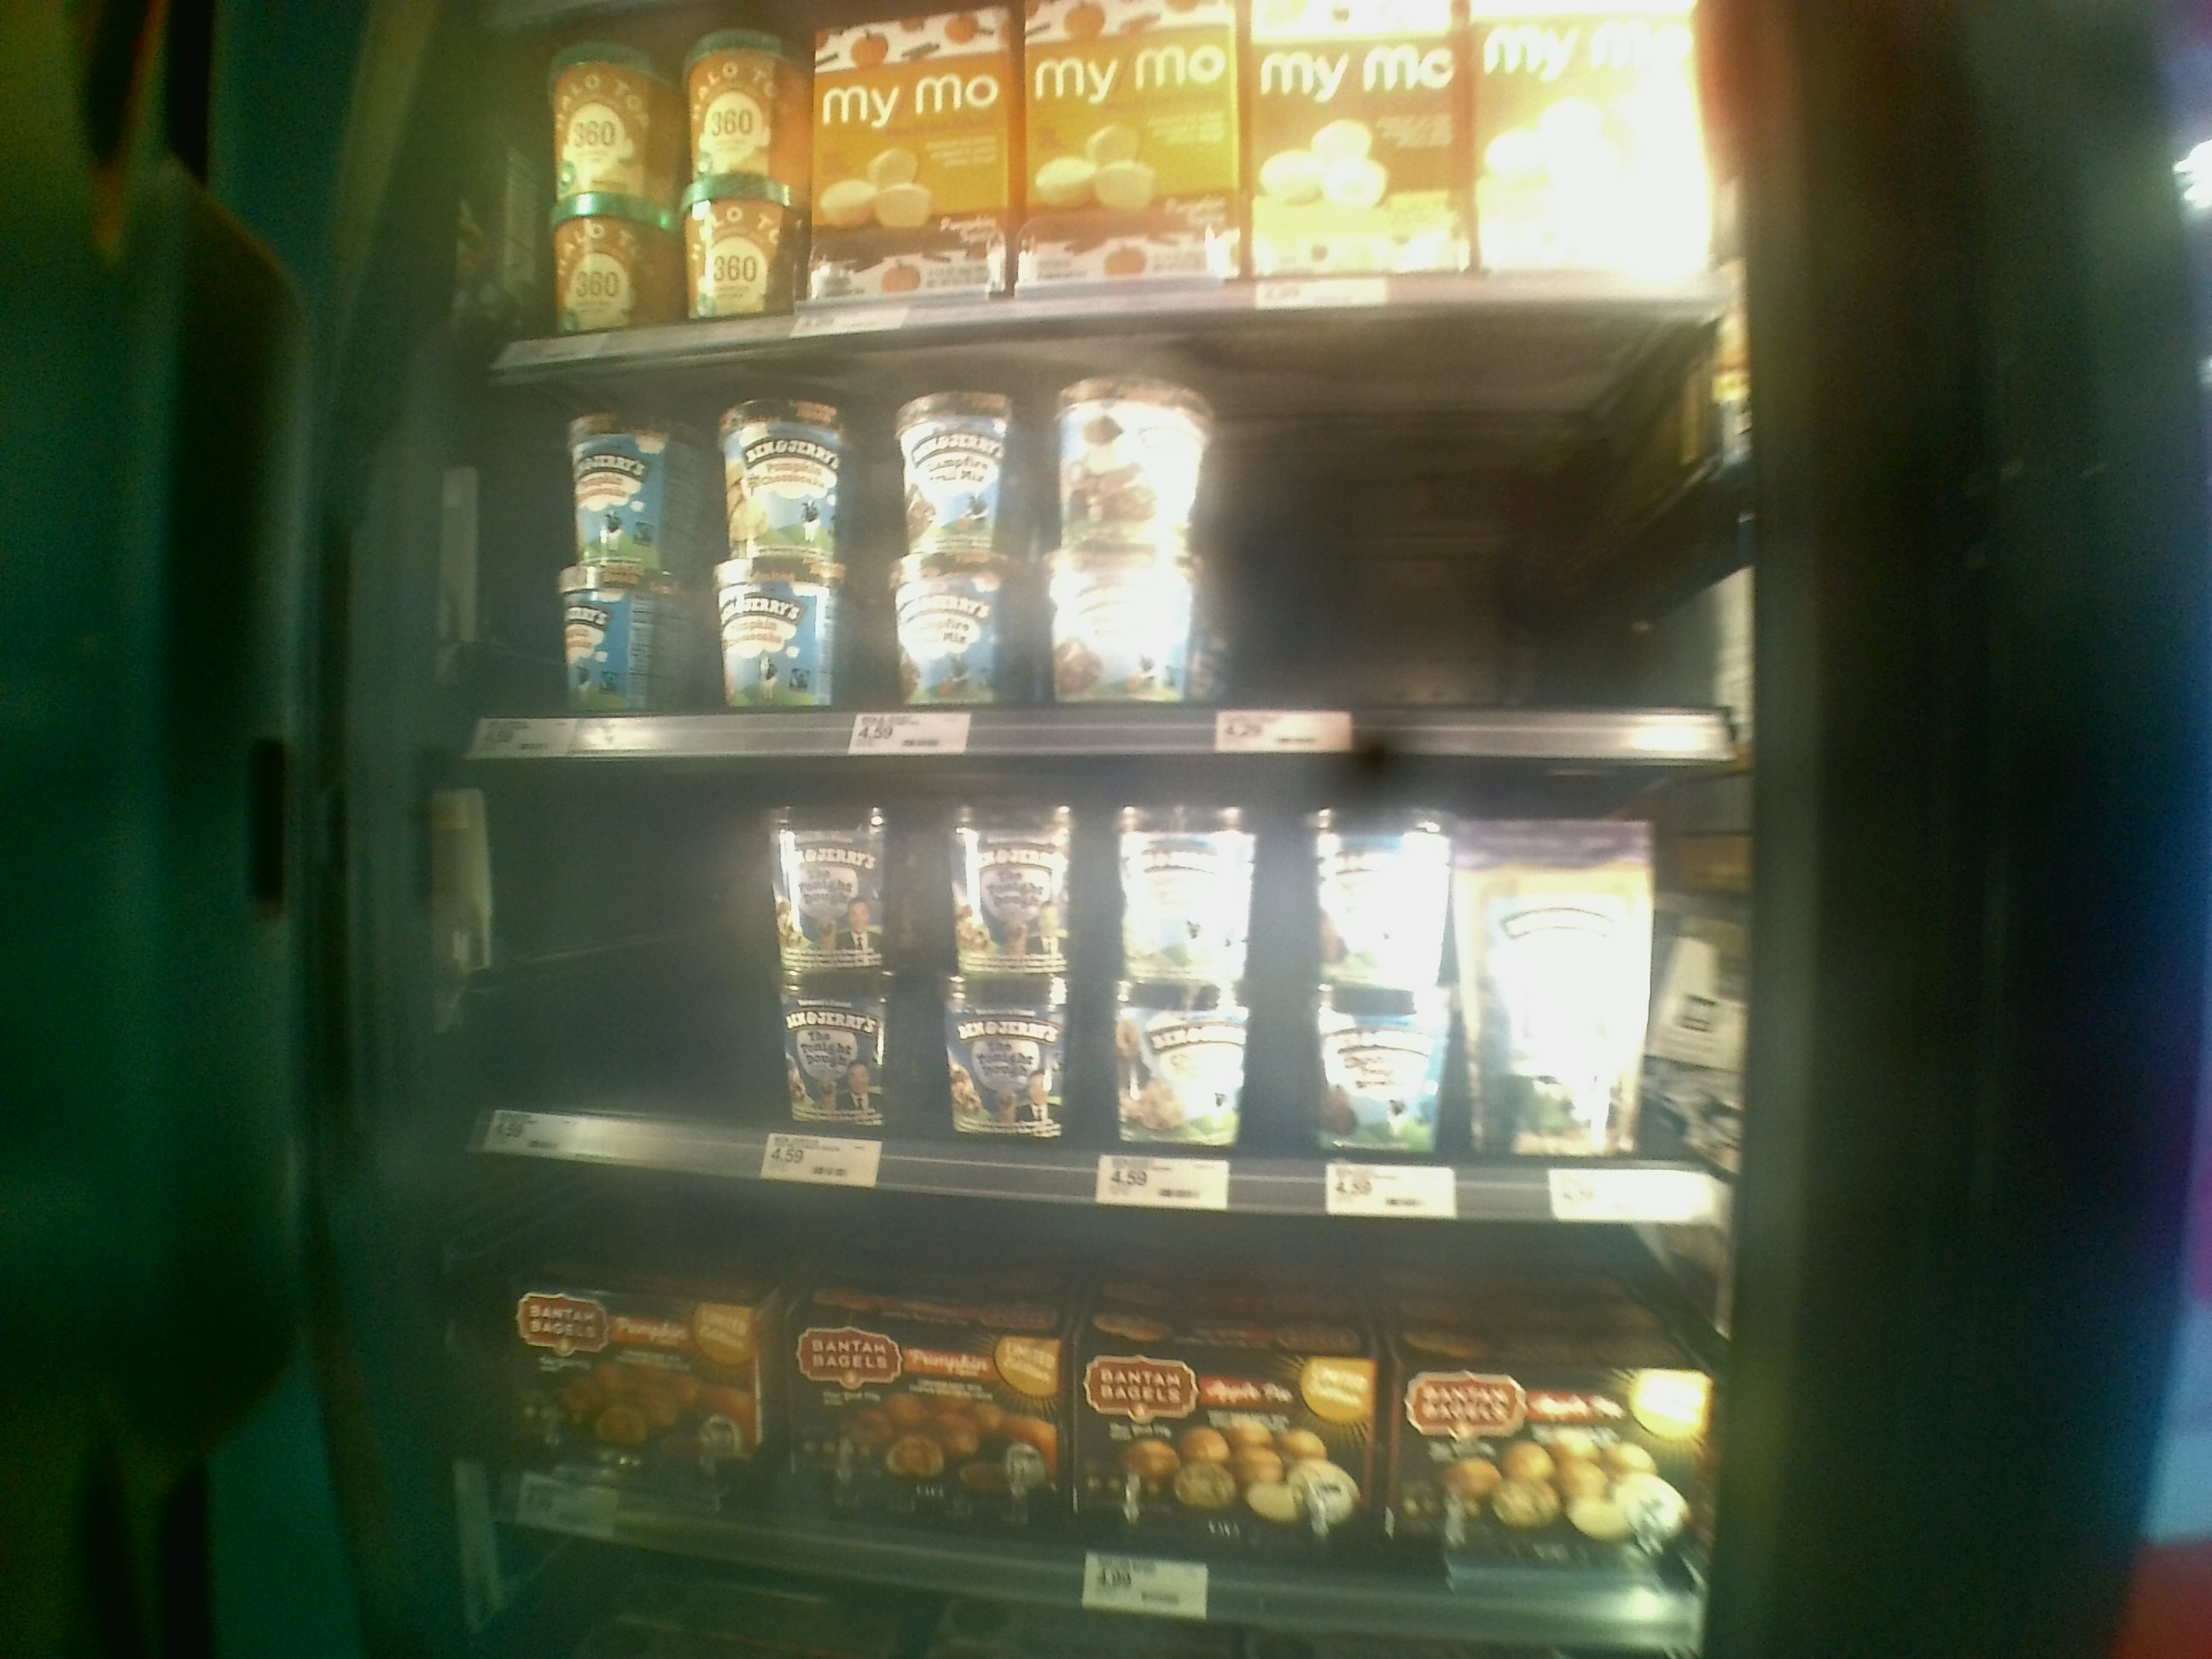shelf: (444, 753, 1747, 1236), (460, 364, 1752, 779)
